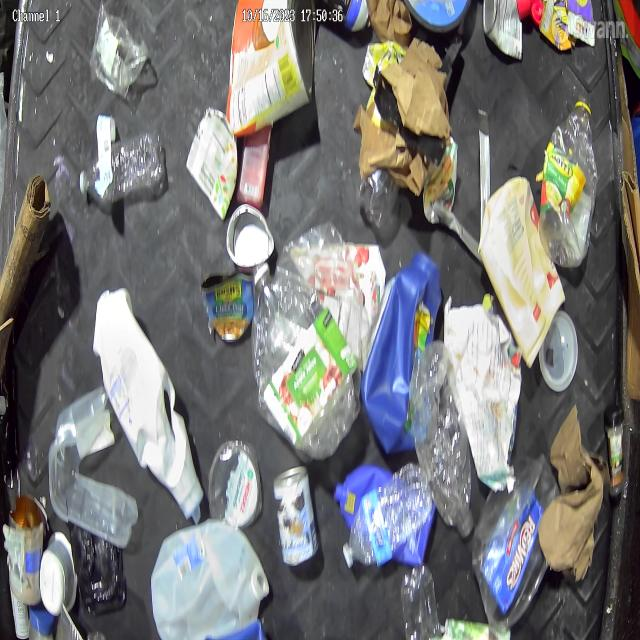can: (224, 0, 317, 142), (2, 490, 50, 607), (273, 463, 320, 569), (199, 270, 255, 347), (224, 200, 276, 272), (39, 529, 79, 618), (481, 0, 523, 66)
milk_jug: (149, 518, 272, 640)
non_white_jug: (360, 250, 444, 457)
plastic_bottle: (252, 261, 360, 462), (408, 339, 476, 542), (538, 95, 600, 272), (341, 460, 433, 572), (78, 109, 166, 212)
